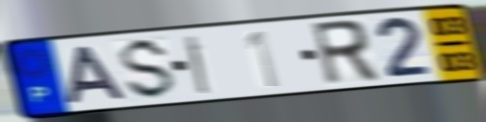1: (245, 29, 280, 88)
2: (372, 14, 437, 81)
A: (65, 44, 130, 106)
I: (182, 33, 212, 96)
R: (307, 17, 383, 88)
S: (119, 36, 179, 102)
